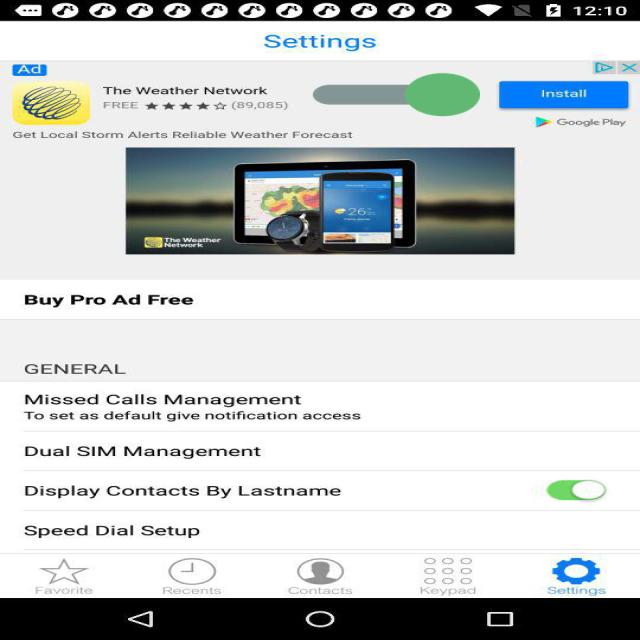social proof: (313, 46, 480, 142)
